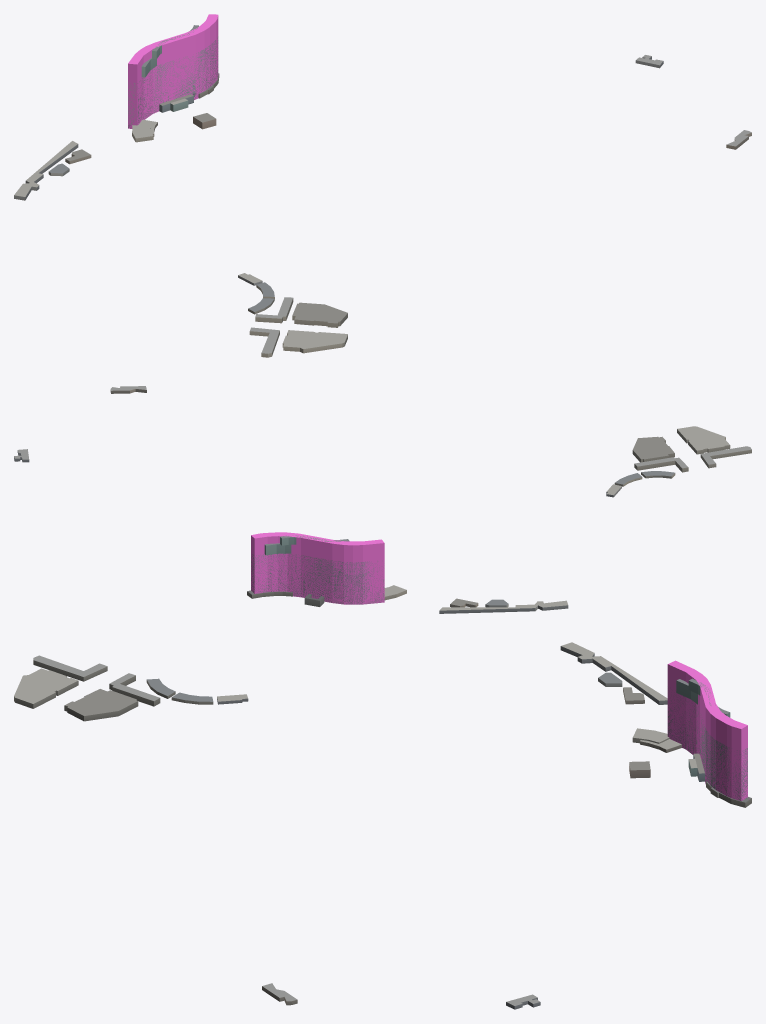
The model's file is bld_5_5.fbx.
3 views of the same model, one above another, from view 1: azimuth 30°, elevation 25°; view 2: azimuth 150°, elevation 25°; view 3: azimuth 270°, elevation 25° (orthographic). The views are drawn at different scales.
Visible parts, largest first — view 1: bld_5_5_LOD0, bld_5_5_COL; view 2: bld_5_5_LOD0, bld_5_5_COL; view 3: bld_5_5_LOD0, bld_5_5_COL.
Part boxes in pixels (x1=…): bld_5_5_LOD0: x1=14, y1=25, x2=751, y2=357; bld_5_5_COL: x1=128, y1=14, x2=218, y2=128; bld_5_5_LOD0: x1=14, y1=386, x2=751, y2=613; bld_5_5_COL: x1=251, y1=532, x2=384, y2=604; bld_5_5_LOD0: x1=14, y1=642, x2=751, y2=1009; bld_5_5_COL: x1=667, y1=660, x2=747, y2=800.
Size of what is drawn, in the model's own units: 1948 by 193 by 1672.
